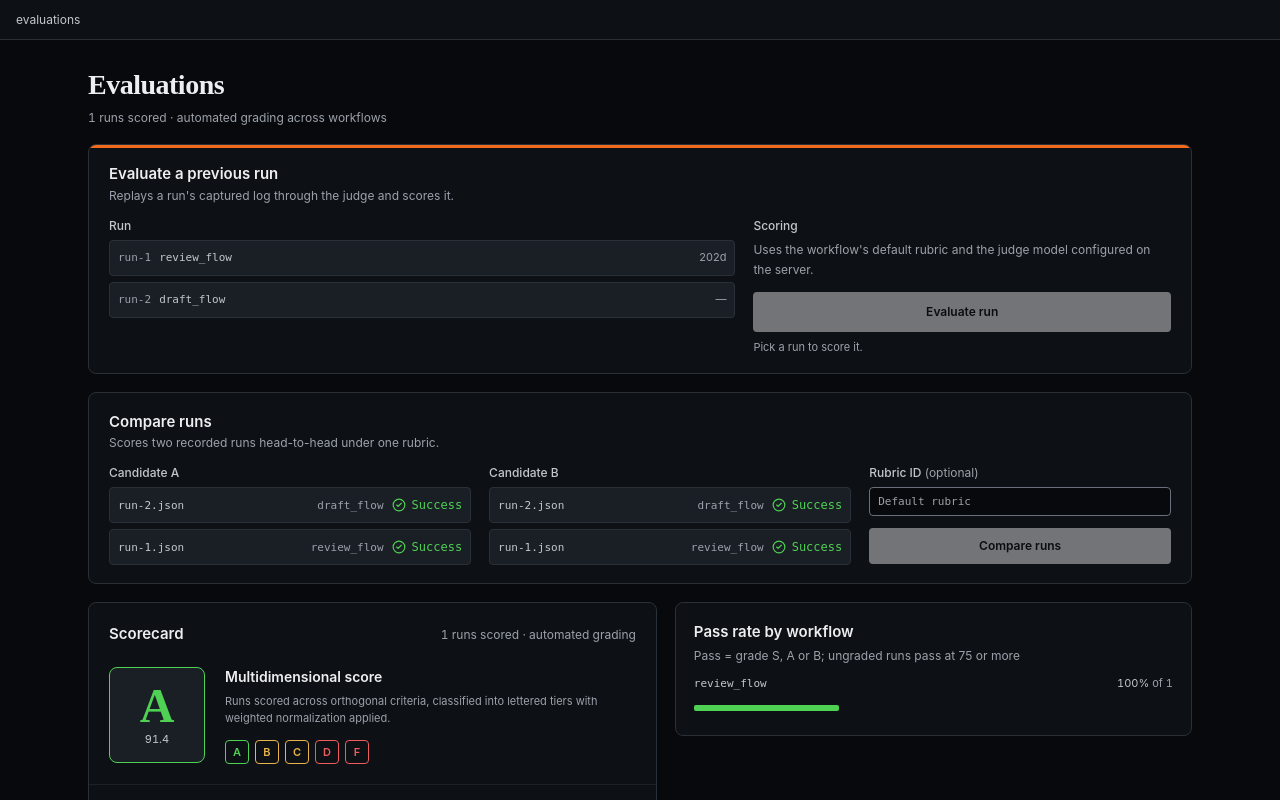
Test: EvaluationsPage › compares two picked runs head-to-head from the compare band
The width and height of the screenshot is (1280, 800).
Expected: the element "Compare runs" is shown, [88,392,1192,584]
Expected: the button "Compare runs" is disabled, [869,528,1171,564]
Click the button with aria-label "pick run-1.json for candidate A" at (151, 547), box [109,529,471,565]
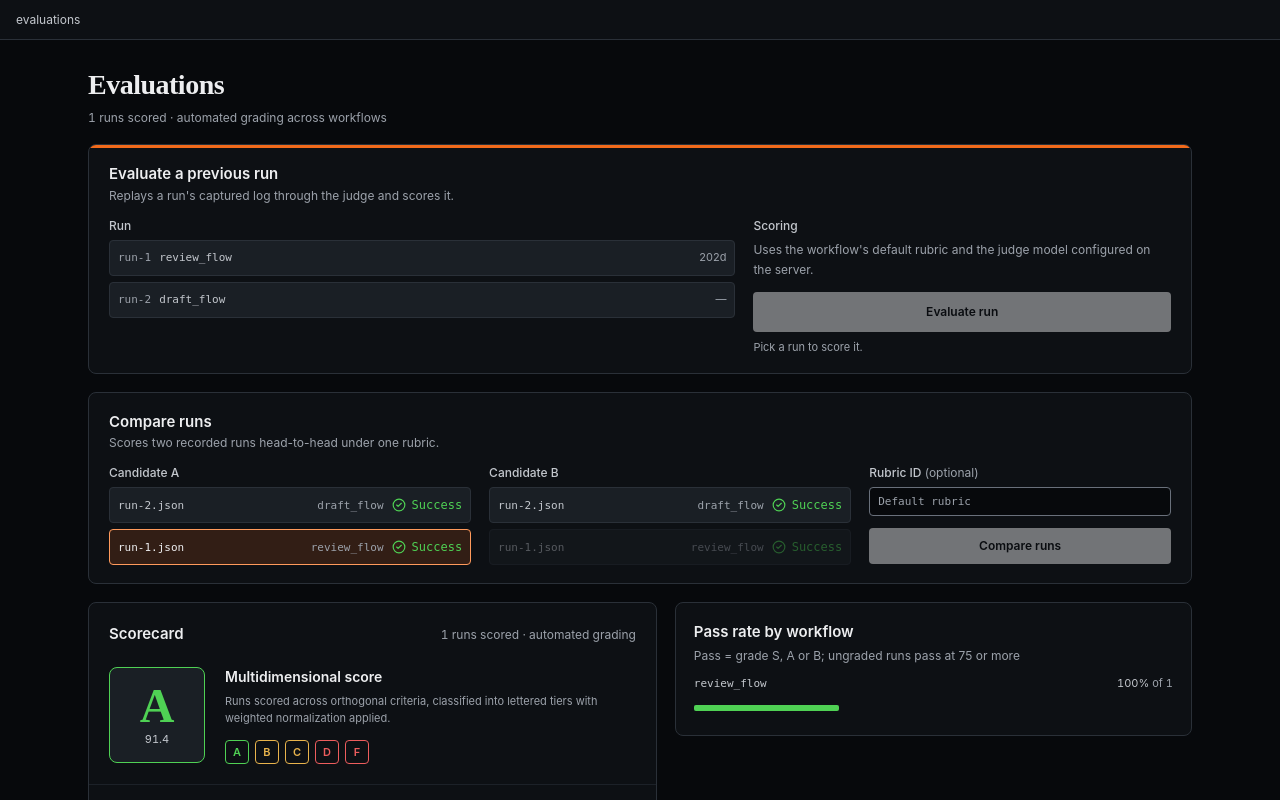
Click the button with aria-label "pick run-2.json for candidate B" at (531, 505), box [489,487,851,523]
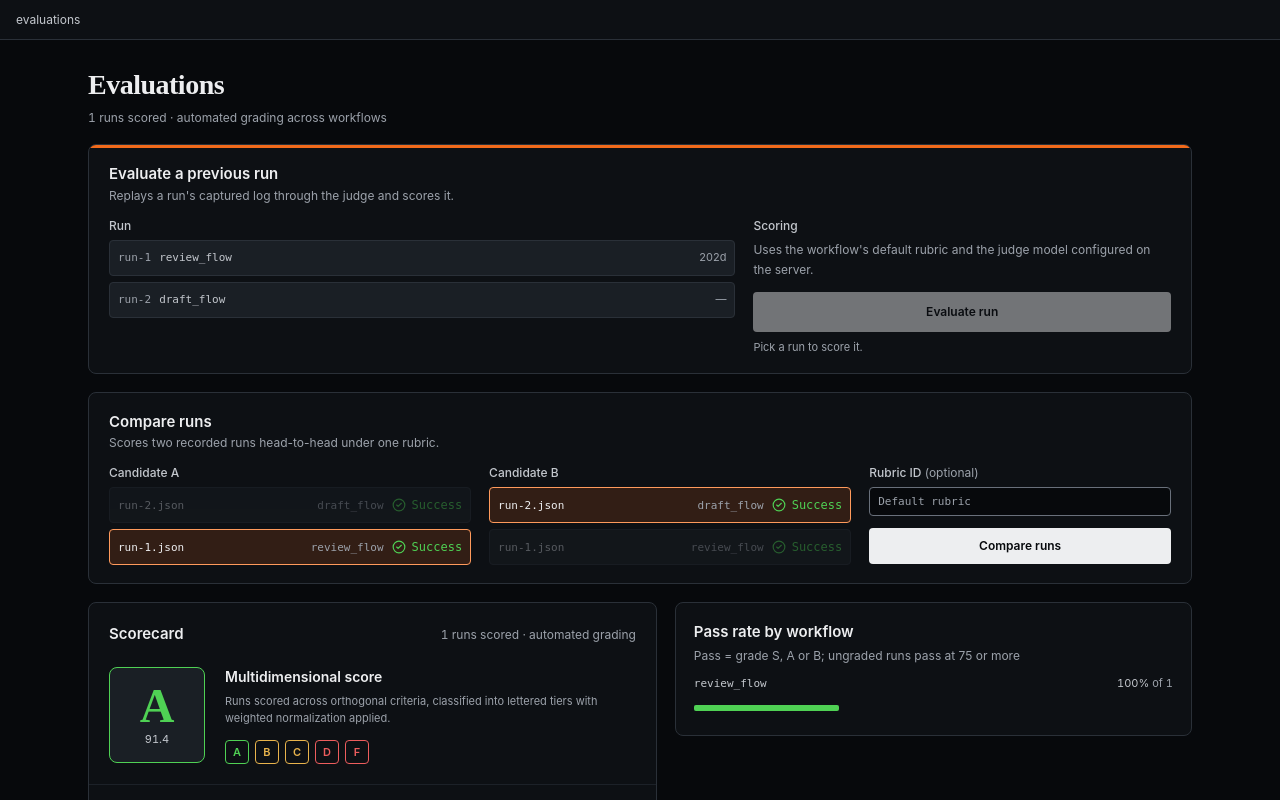
Now the button "Compare runs" is enabled
Click the button "Compare runs" at (1020, 546), box [869,528,1171,564]
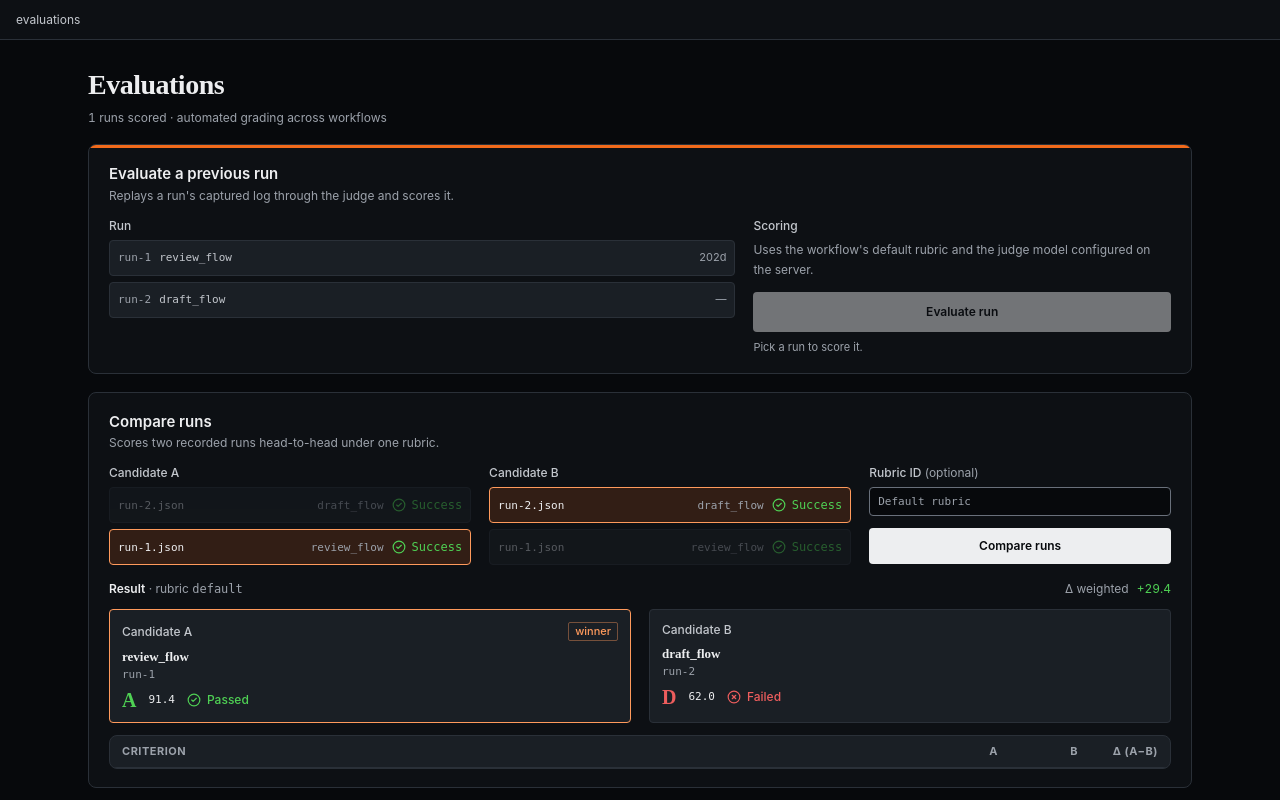
Now the element with test id "compare-result" is shown, box [109,581,1171,768]
